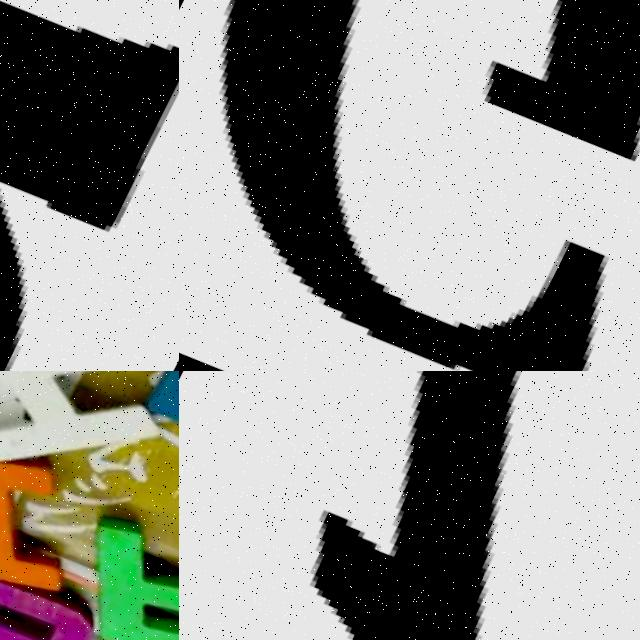1: (184, 371, 640, 640)
2: (0, 0, 179, 371)
F: (59, 501, 179, 640)
G: (179, 0, 640, 371)
H: (0, 371, 179, 537)
I: (0, 422, 108, 629)
S: (0, 555, 110, 640)
